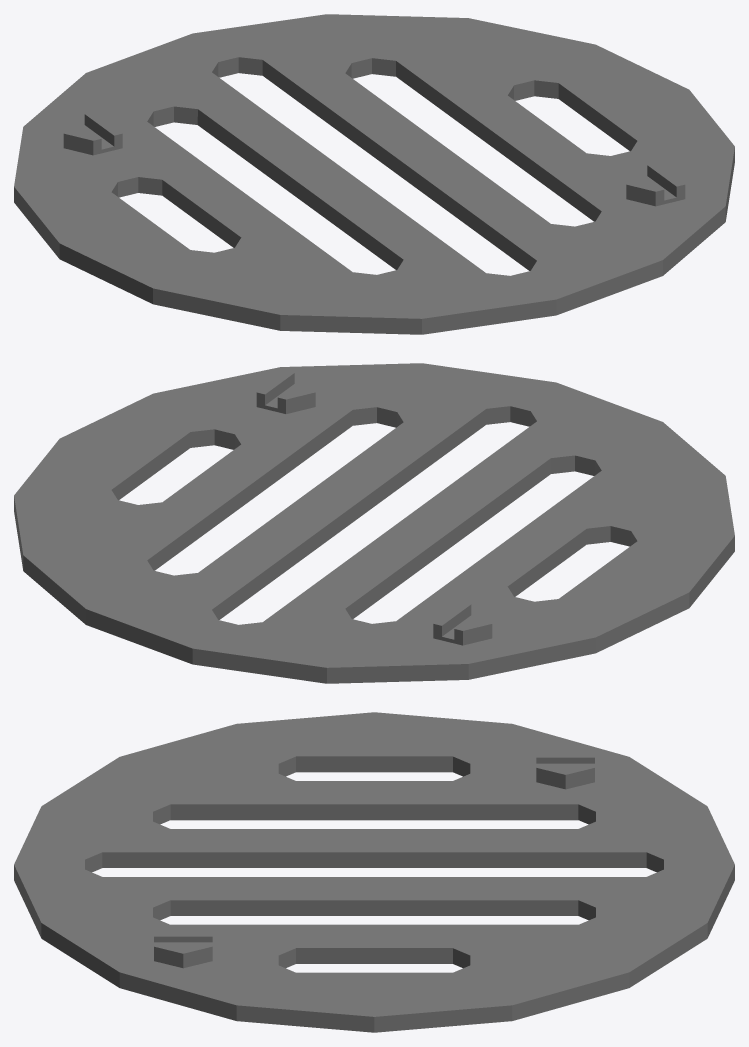
File: drain.glb
The picture shows the model from 3 angles, top to bottom: view 1: azimuth 30°, elevation 25°; view 2: azimuth 150°, elevation 25°; view 3: azimuth 270°, elevation 25°; orthographic projection.
Parts seen in each view (by area): view 1: Object_2; view 2: Object_2; view 3: Object_2.
Part boxes in pixels (box(x1,y1,x2,y2)): Object_2: box(14, 14, 734, 334); Object_2: box(14, 363, 734, 683); Object_2: box(14, 712, 734, 1032).
Size of the model in its own units: 82.65 by 3.84 by 82.65.
Materials: 1 (1 with a texture image).
